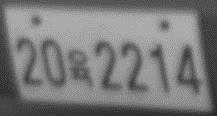0: (40, 39, 66, 87)
1: (146, 41, 177, 94)
2: (92, 39, 122, 91), (121, 41, 149, 92), (15, 37, 43, 87)
4: (175, 43, 202, 92)
육: (67, 47, 94, 89)
